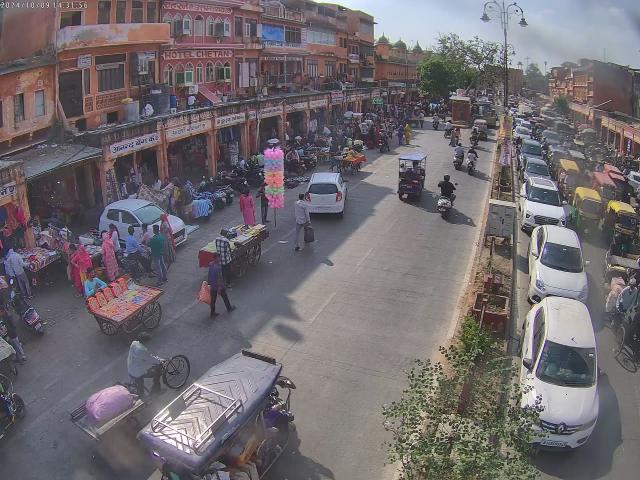auto: (137, 350, 298, 480), (602, 200, 640, 257), (396, 151, 428, 203), (470, 118, 490, 142)
bicycle-rider: (606, 276, 640, 361)
car: (521, 296, 603, 451), (528, 224, 589, 303), (520, 178, 568, 233), (297, 172, 349, 218)
helmet: (442, 175, 450, 183)
license_plate: (540, 440, 568, 448), (316, 208, 331, 212), (439, 208, 446, 212)
motorbike-rider: (464, 146, 478, 174), (375, 130, 391, 154)
person: (200, 258, 232, 316), (149, 224, 169, 286), (66, 244, 92, 290), (296, 192, 314, 248), (100, 234, 118, 283), (81, 270, 107, 300), (238, 190, 254, 226)
rickshow: (68, 330, 194, 448)
scooty-rider: (435, 174, 458, 222), (448, 142, 466, 168), (432, 112, 440, 132)
vendor: (91, 283, 164, 338), (198, 227, 264, 278), (338, 150, 364, 175)
